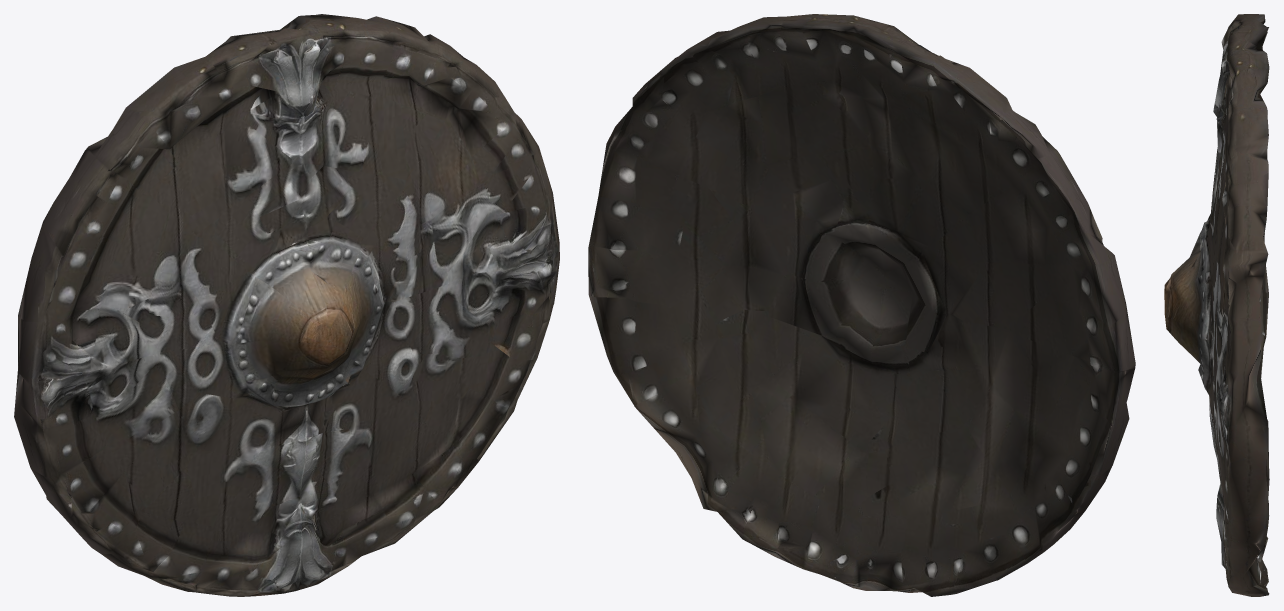
File: shield.glb
3 views of the same model, side by side, from view 1: azimuth 30°, elevation 25°; view 2: azimuth 150°, elevation 25°; view 3: azimuth 270°, elevation 25° (orthographic). The views are drawn at different scales.
Bounding box in the file's own units: 0.5998 × 0.5998 × 0.108.
1 material, 1 textured.
